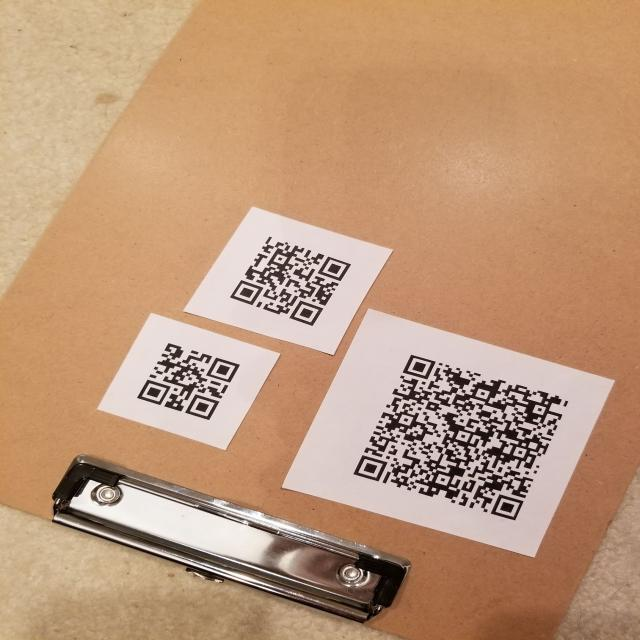QRCode: (346, 345, 582, 535), (223, 222, 357, 335), (124, 337, 247, 427)
